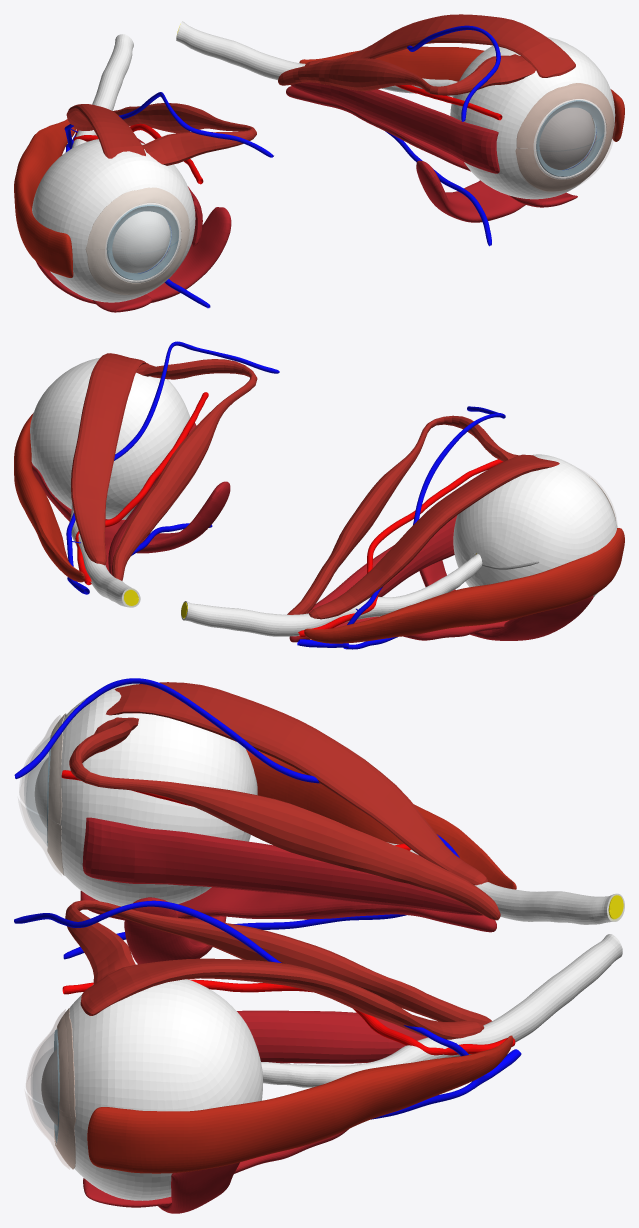
Rendered from female-sensory.glb.
3 renders of one model, top to bottom at view 1: azimuth 30°, elevation 25°; view 2: azimuth 150°, elevation 25°; view 3: azimuth 270°, elevation 25°, orthographic. The views are drawn at different scales.
Parts seen in each view (by area): view 1: VH_F_sclera_R, VH_F_sclera_L, VH_F_medial_rectus_extraocular_muscle_L, VH_F_superior_rectus_extraocular_muscle_L, VH_F_superior_oblique_extraocular_muscle_L, VH_F_lateral_rectus_extraocular_muscle_R, VH_F_palpebral_conjunctiva_of_right_upper_eyelid, VH_F_palpebral_conjunctiva_of_left_upper_eyelid, VH_F_superior_oblique_extraocular_muscle_R, VH_F_cornea_R, VH_F_bulbar_conjunctiva_R, VH_F_cornea_L (+20 smaller); view 2: VH_F_sclera_R, VH_F_sclera_L, VH_F_lateral_rectus_extraocular_muscle_R, VH_F_superior_rectus_extraocular_muscle_L, VH_F_superior_oblique_extraocular_muscle_L, VH_F_superior_rectus_extraocular_muscle_R, VH_F_dura_mater_right, VH_F_superior_oblique_extraocular_muscle_R, VH_F_lateral_rectus_extraocular_muscle_L, VH_F_inferior_oblique_extraocular_muscle_R, VH_F_inferior_oblique_extraocular_muscle_L, VH_F_medial_rectus_extraocular_muscle_R (+7 smaller); view 3: VH_F_sclera_L, VH_F_lateral_rectus_extraocular_muscle_L, VH_F_sclera_R, VH_F_medial_rectus_extraocular_muscle_R, VH_F_superior_rectus_extraocular_muscle_R, VH_F_superior_oblique_extraocular_muscle_R, VH_F_superior_oblique_extraocular_muscle_L, VH_F_superior_rectus_extraocular_muscle_L, VH_F_dura_mater_left, VH_F_medial_rectus_extraocular_muscle_L, VH_F_inferior_rectus_extraocular_muscle_R, VH_F_lateral_rectus_extraocular_muscle_R (+17 smaller).
Part boxes in pixels (<box>): VH_F_sclera_R: <box>32,139,195,302</box>; VH_F_sclera_L: <box>450,36,615,199</box>; VH_F_medial_rectus_extraocular_muscle_L: <box>291,82,499,173</box>; VH_F_superior_rectus_extraocular_muscle_L: <box>305,14,575,77</box>; VH_F_superior_oblique_extraocular_muscle_L: <box>278,54,535,95</box>; VH_F_lateral_rectus_extraocular_muscle_R: <box>14,119,76,277</box>; VH_F_palpebral_conjunctiva_of_right_upper_eyelid: <box>89,190,189,252</box>; VH_F_palpebral_conjunctiva_of_left_upper_eyelid: <box>517,85,614,149</box>; VH_F_superior_oblique_extraocular_muscle_R: <box>113,103,256,165</box>; VH_F_cornea_R: <box>107,205,178,279</box>; VH_F_bulbar_conjunctiva_R: <box>85,187,189,294</box>; VH_F_cornea_L: <box>536,102,604,176</box>; VH_F_sclera_R: <box>453,454,617,596</box>; VH_F_sclera_L: <box>30,358,190,519</box>; VH_F_lateral_rectus_extraocular_muscle_R: <box>304,528,624,643</box>; VH_F_superior_rectus_extraocular_muscle_L: <box>71,353,148,565</box>; VH_F_superior_oblique_extraocular_muscle_L: <box>112,359,257,580</box>; VH_F_superior_rectus_extraocular_muscle_R: <box>308,454,559,619</box>; VH_F_dura_mater_right: <box>181,553,482,636</box>; VH_F_superior_oblique_extraocular_muscle_R: <box>287,415,519,614</box>; VH_F_lateral_rectus_extraocular_muscle_L: <box>14,413,85,582</box>; VH_F_inferior_oblique_extraocular_muscle_R: <box>419,560,593,640</box>; VH_F_inferior_oblique_extraocular_muscle_L: <box>31,462,230,553</box>; VH_F_medial_rectus_extraocular_muscle_R: <box>308,515,457,613</box>; VH_F_sclera_L: <box>55,979,262,1200</box>; VH_F_lateral_rectus_extraocular_muscle_L: <box>87,1035,513,1173</box>; VH_F_sclera_R: <box>47,683,256,906</box>; VH_F_medial_rectus_extraocular_muscle_R: <box>82,817,482,915</box>; VH_F_superior_rectus_extraocular_muscle_R: <box>106,682,487,885</box>; VH_F_superior_oblique_extraocular_muscle_R: <box>69,717,500,920</box>; VH_F_superior_oblique_extraocular_muscle_L: <box>65,900,491,1025</box>; VH_F_superior_rectus_extraocular_muscle_L: <box>80,958,484,1039</box>; VH_F_dura_mater_left: <box>261,934,622,1087</box>; VH_F_medial_rectus_extraocular_muscle_L: <box>237,1010,427,1063</box>; VH_F_inferior_rectus_extraocular_muscle_R: <box>80,887,496,932</box>; VH_F_lateral_rectus_extraocular_muscle_R: <box>246,749,516,889</box>.
Size of the model in its own units: 0.0994 by 0.0342 by 0.0658.
